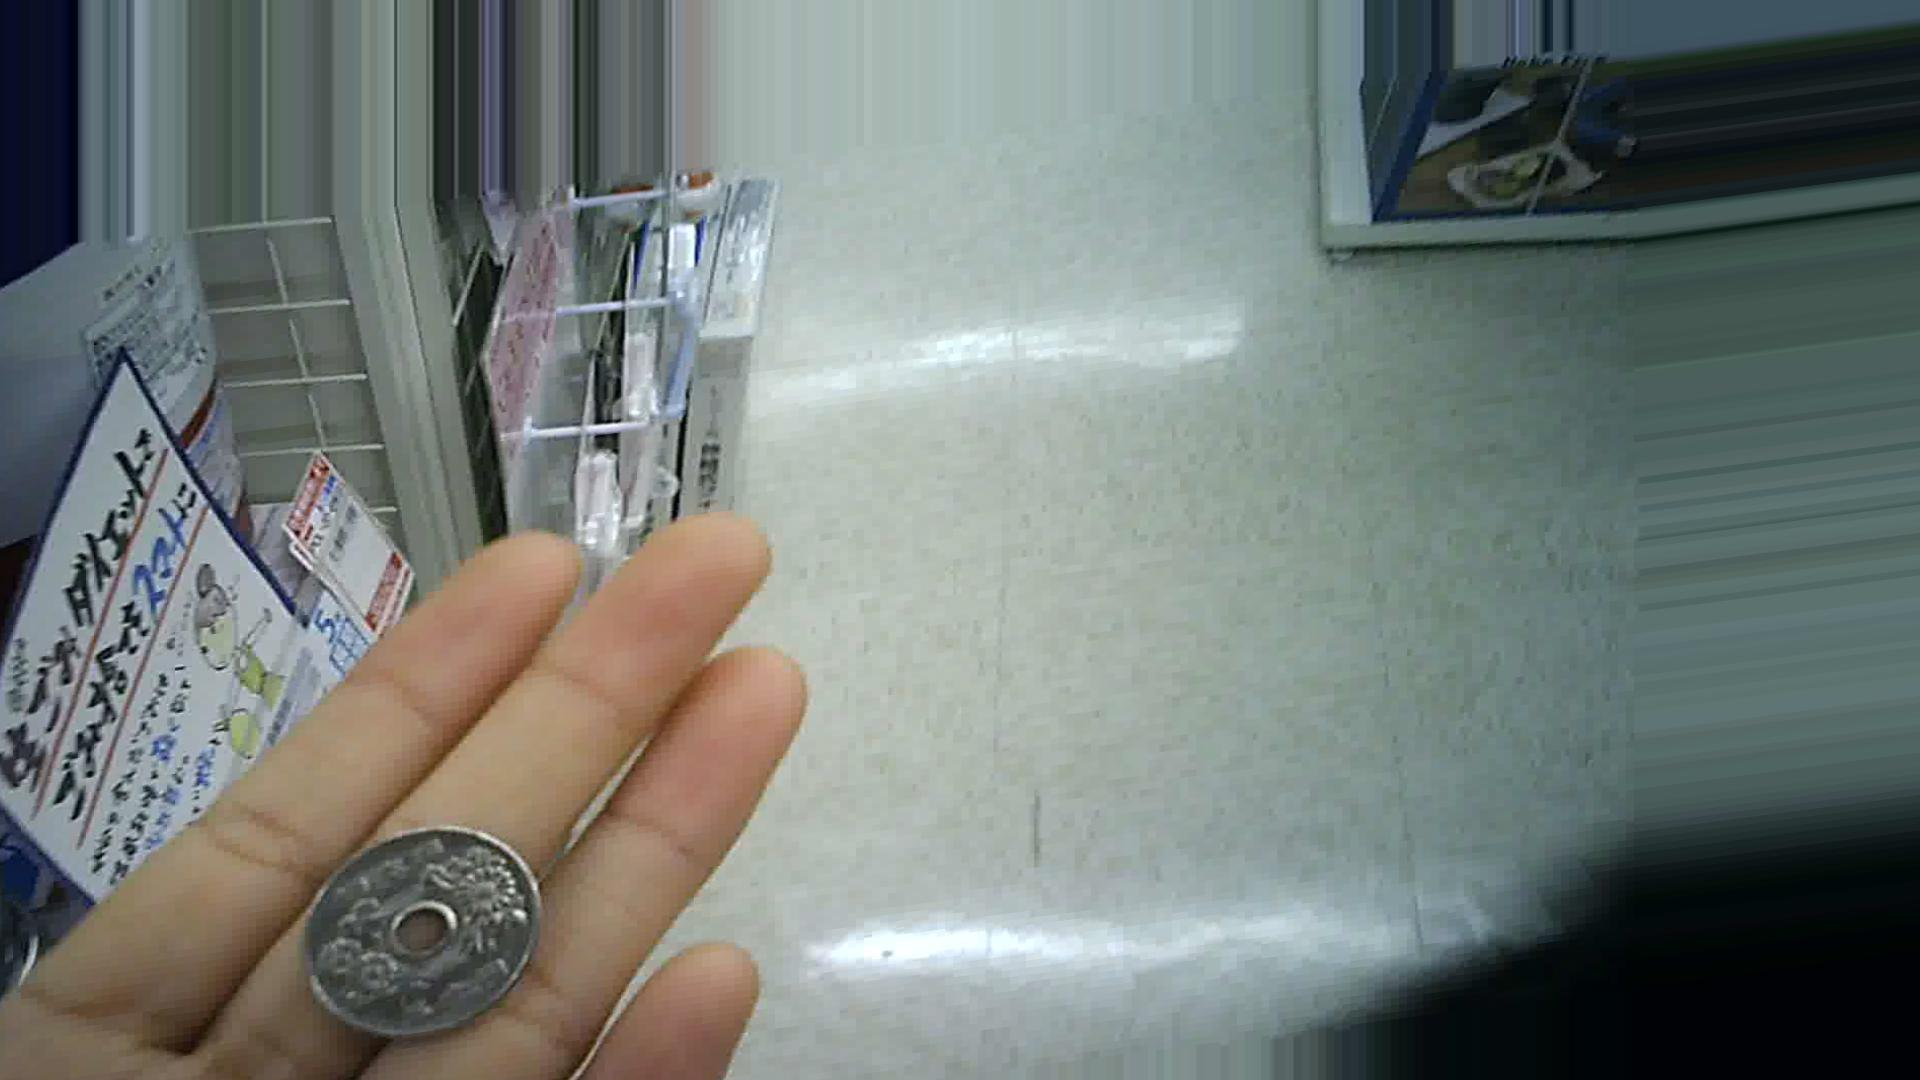50 Yen: (299, 829, 535, 1046)
